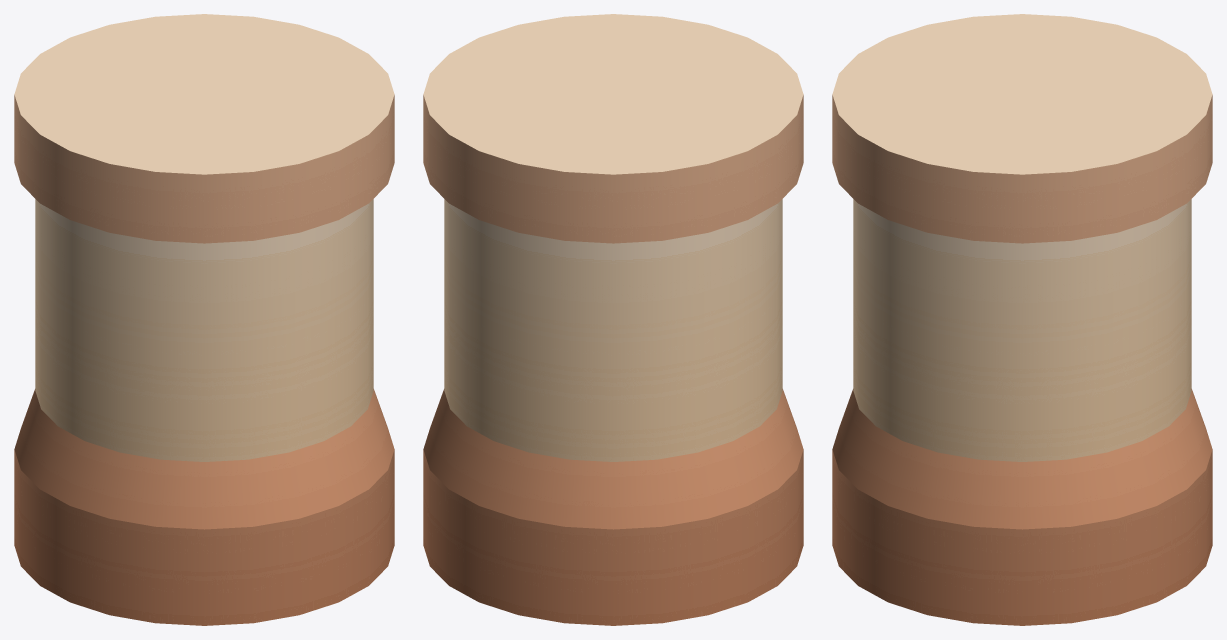
Rendered from tower-base.glb.
The picture shows the model from 3 angles, left to right: view 1: azimuth 30°, elevation 25°; view 2: azimuth 150°, elevation 25°; view 3: azimuth 270°, elevation 25°; orthographic projection.
Visible parts, largest first — view 1: tower-base; view 2: tower-base; view 3: tower-base.
Boxes of the visible parts, bbox=[...] form: tower-base: bbox=[14, 14, 394, 625]; tower-base: bbox=[423, 14, 803, 625]; tower-base: bbox=[832, 14, 1212, 625].
Bounding box in the file's own units: 1 × 1.31 × 1.
1 material, 1 textured.
